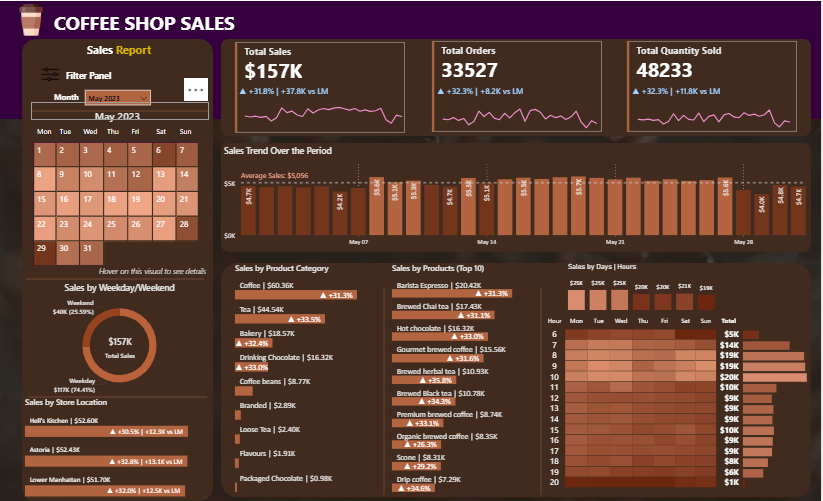

The dashboard page shown, as its layout file describes it:
{"tool":"powerbi","page":{"name":"Page 1","canvas":[1400,850],"ordinal":0},"visuals":[{"type":"shape","box":[0,0,1400.8,200.6],"z":0},{"type":"shape","box":[40.8,64.6,324.7,785.4],"z":1000},{"type":"shape","box":[379.1,64.6,1003,164.9],"z":2000},{"type":"textbox","box":[89.8,8.5,322,55.9],"z":3000},{"type":"cardVisual","fields":{"Data":[" Measures.Total Orders"]},"box":[731.9,62.1,299.2,164.9],"z":4000,"group":"g1"},{"type":"cardVisual","fields":{"Data":[" Measures.Total Quantity Sold"]},"box":[1063.8,62.1,299.2,164.9],"z":4000,"group":"g2"},{"type":"slicer","fields":{"Values":["Date Table.Month Year"]},"box":[142.4,145.8,122,37.3],"z":4000},{"type":"group","id":"g1","title":"Group 1","box":[731.9,62.1,300,165.5],"z":5000},{"type":"cardVisual","fields":{"Data":[" Measures.Total Sales"]},"box":[397,64.6,299.2,164.9],"z":5000,"group":"g3"},{"type":"group","id":"g2","title":"Group 1","box":[1063.8,62.1,300,165.5],"z":6000},{"type":"lineChart","fields":{"Category":["Date Table.Date.Variation.Date Hierarchy.Year","Date Table.Date.Variation.Date Hierarchy.Quarter","Date Table.Date.Variation.Date Hierarchy.Month","Date Table.Date.Variation.Date Hierarchy.Day"],"Y":[" Measures.Total Quantity Sold"]},"box":[1069.6,143,291.4,79.3],"z":6000,"group":"g2"},{"type":"lineChart","fields":{"Category":["Date Table.Date.Variation.Date Hierarchy.Year","Date Table.Date.Variation.Date Hierarchy.Quarter","Date Table.Date.Variation.Date Hierarchy.Month","Date Table.Date.Variation.Date Hierarchy.Day"],"Y":[" Measures.Total Orders"]},"box":[737,143.8,294.8,77.6],"z":6000,"group":"g1"},{"type":"lineChart","fields":{"Y":[" Measures.Total Sales"],"Category":["Date Table.Date.Variation.Date Hierarchy.Year","Date Table.Date.Variation.Date Hierarchy.Quarter","Date Table.Date.Variation.Date Hierarchy.Month","Date Table.Date.Variation.Date Hierarchy.Day"]},"box":[400,144.8,300,84.5],"z":6000,"group":"g3"},{"type":"group","id":"g3","title":"Group 2","box":[397,64.6,303,164.9],"z":7000},{"type":"pivotTable","fields":{"Rows":["Date Table.Week Number"],"Columns":["Date Table.Day Name"],"Values":["Min(Date Table.Day Number)"]},"box":[47.6,205.7,312.8,256.7],"z":8000},{"type":"card","fields":{"Values":["Min(Date Table.Month Year)"]},"box":[149.6,181.9,107.1,30.6],"z":9000},{"type":"card","fields":{"Values":[" Measures.Foot Note"]},"box":[164.9,445.4,195.5,32.3],"z":10000},{"type":"shape","box":[47.6,457.3,302.6,30.6],"z":11000},{"type":"shape","box":[56.1,171.7,302.6,30.6],"z":12000},{"type":"donutChart","title":"Sales by Weekday/Weekend","fields":{"Category":["Date Table.Weekday/Weekend"],"Y":[" Measures.Total Sales"]},"box":[52.7,477.7,307.7,195.5],"z":13000},{"type":"card","fields":{"Values":[" Measures.Total Sales"]},"box":[163.2,557.6,88.4,61.2],"z":14000},{"type":"shape","box":[52.7,657.9,302.6,30.6],"z":15000},{"type":"clusteredBarChart","title":"Sales by Store Location","fields":{"Category":["Coffee_shop_sales.store_location"],"Y":[" Measures.Placeholder"," Measures.Total Sales"]},"box":[40.8,673.2,314.5,176.8],"z":16000},{"type":"shape","box":[379.1,241.4,1003,185.3],"z":17000},{"type":"shape","box":[379.5,444.9,1002.6,398.7],"z":18000},{"type":"columnChart","title":"Sales Trend Over the Period","fields":{"Category":["Coffee_shop_sales.transaction_date"],"Y":[" Measures.Total Sales"]},"box":[379.1,244.8,1003,180.2],"z":19000},{"type":"clusteredBarChart","title":"Sales by Product Category","fields":{"Y":[" Measures.Placeholder"," Measures.Total Sales"],"Category":["Coffee_shop_sales.product_category"]},"box":[397.4,444.9,250,394.9],"z":20000},{"type":"shape","box":[647.7,487.9,17,351.9],"z":21000},{"type":"clusteredBarChart","title":"Sales by Products (Top 10)","fields":{"Y":[" Measures.Placeholder"," Measures.Total Sales"],"Category":["Coffee_shop_sales.product_type"]},"box":[664.1,444.9,250,394.9],"z":22000},{"type":"shape","box":[914.6,487.9,17,351.9],"z":23000},{"type":"pivotTable","fields":{"Rows":["Coffee_shop_sales.Hour"],"Columns":["Date Table.Day Name"],"Values":[" Measures.Total Sales"]},"box":[923.1,530.4,350.2,309.4],"z":24000},{"type":"barChart","fields":{"Category":["Coffee_shop_sales.Hour"],"Y":[" Measures.Total Sales"]},"box":[1261.5,547.4,120.5,285.9],"z":25000},{"type":"columnChart","title":"Sales by Days | Hours","fields":{"Y":[" Measures.Total Sales"],"Category":["Date Table.Day Name"]},"box":[964.1,444.9,260.3,85.9],"z":26000},{"type":"textbox","box":[89.8,149.2,52.5,33.9],"z":27000},{"type":"textbox","box":[145.8,64.4,120.3,37.3],"z":28000},{"type":"textbox","box":[110.2,111.9,105.1,30.5],"z":29000},{"type":"image","box":[15.3,0,81.4,64.4],"z":30000},{"type":"image","box":[67.8,103.4,42.4,42.4],"z":31000}]}

Visuals, with their boxes in screenshot pixels (x1, y1, x2, y2), scaled from the page's 1400x850 canvas onto the 823x501 screenshot:
shape: region(0, 0, 822, 118)
shape: region(24, 38, 215, 500)
shape: region(223, 38, 812, 135)
textbox: region(53, 5, 242, 38)
cardVisual -  Measures.Total Orders: region(430, 37, 606, 134)
cardVisual -  Measures.Total Quantity Sold: region(625, 37, 801, 134)
slicer - Date Table.Month Year: region(84, 86, 155, 108)
"Group 1" group: region(430, 37, 607, 134)
cardVisual -  Measures.Total Sales: region(233, 38, 409, 135)
"Group 1" group: region(625, 37, 802, 134)
lineChart - Date Table.Date.Variation.Date Hierarchy.Year x Date Table.Date.Variation.Date Hierarchy.Quarter: region(629, 84, 800, 131)
lineChart - Date Table.Date.Variation.Date Hierarchy.Year x Date Table.Date.Variation.Date Hierarchy.Quarter: region(433, 85, 607, 130)
lineChart -  Measures.Total Sales x Date Table.Date.Variation.Date Hierarchy.Year: region(235, 85, 412, 135)
"Group 2" group: region(233, 38, 412, 135)
pivotTable - Date Table.Week Number x Date Table.Day Name: region(28, 121, 212, 273)
card - Min(Date Table.Month Year): region(88, 107, 151, 125)
card -  Measures.Foot Note: region(97, 263, 212, 282)
shape: region(28, 270, 206, 288)
shape: region(33, 101, 211, 119)
"Sales by Weekday/Weekend" donutChart: region(31, 282, 212, 397)
card -  Measures.Total Sales: region(96, 329, 148, 365)
shape: region(31, 388, 209, 406)
"Sales by Store Location" clusteredBarChart: region(24, 397, 209, 500)
shape: region(223, 142, 812, 252)
shape: region(223, 262, 812, 497)
"Sales Trend Over the Period" columnChart: region(223, 144, 812, 250)
"Sales by Product Category" clusteredBarChart: region(234, 262, 381, 495)
shape: region(381, 288, 391, 495)
"Sales by Products (Top 10)" clusteredBarChart: region(390, 262, 537, 495)
shape: region(538, 288, 548, 495)
pivotTable - Coffee_shop_sales.Hour x Date Table.Day Name: region(543, 313, 749, 495)
barChart - Coffee_shop_sales.Hour x  Measures.Total Sales: region(742, 323, 812, 491)
"Sales by Days | Hours" columnChart: region(567, 262, 720, 313)
textbox: region(53, 88, 84, 108)
textbox: region(86, 38, 156, 60)
textbox: region(65, 66, 127, 84)
image: region(9, 0, 57, 38)
image: region(40, 61, 65, 86)
